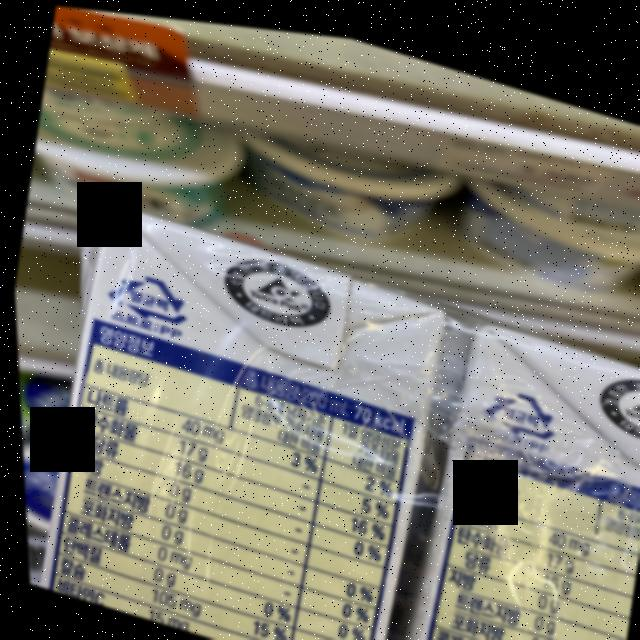SterilizedPack: (101, 260, 192, 328), (472, 369, 560, 435)
